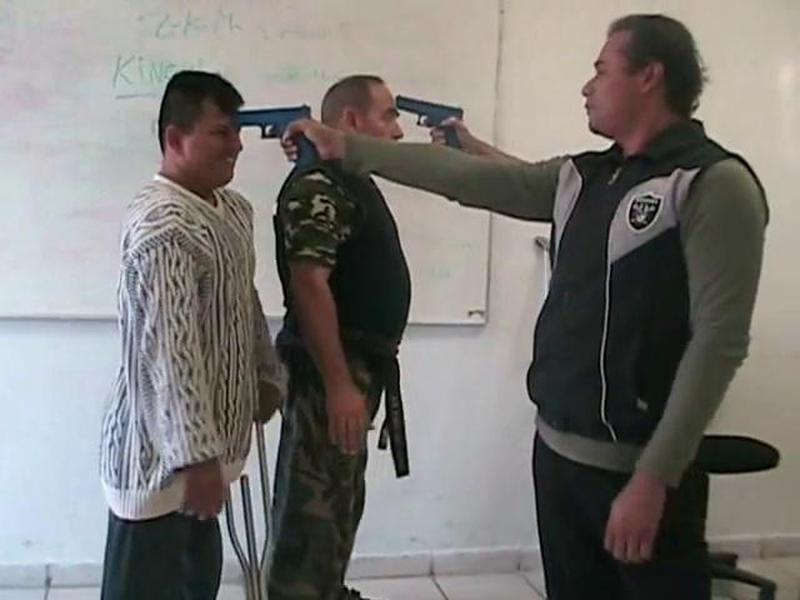Pistola: (227, 92, 335, 187), (381, 79, 490, 171)
